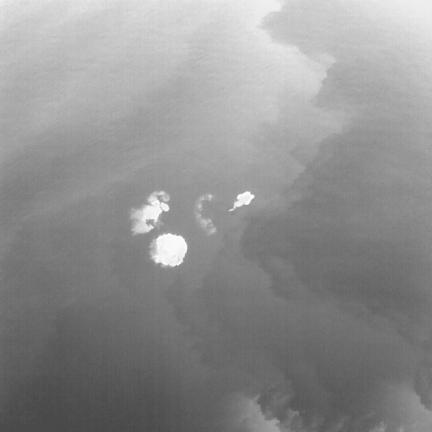flukeprints: (130, 191, 169, 234), (149, 233, 187, 267), (228, 191, 254, 211)
